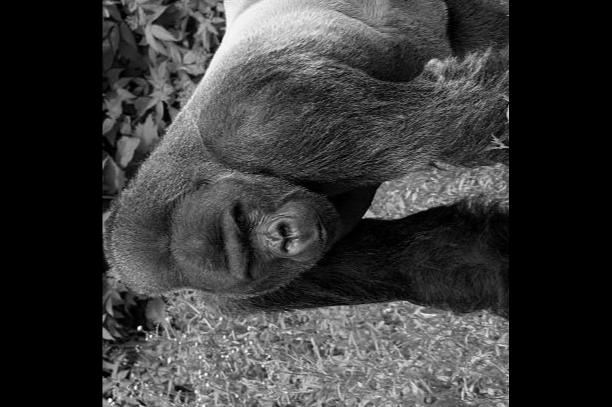gorille_Autres: (103, 0, 509, 332)
